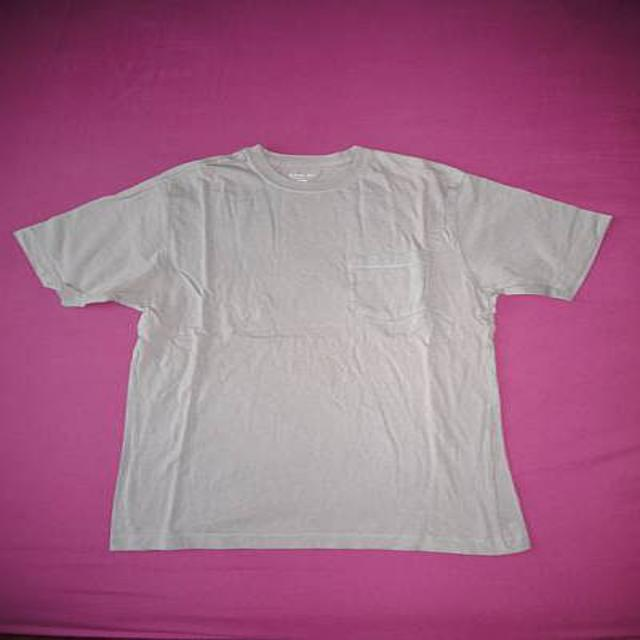T_SHIRT: (7, 134, 626, 561)
